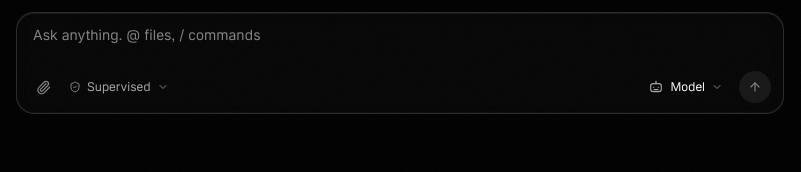
Test case: composer attachments › opens the native picker from the paperclip label and attaches the picked file
Click the file field named "Attach files" at (43, 87), box [36,80,50,94]
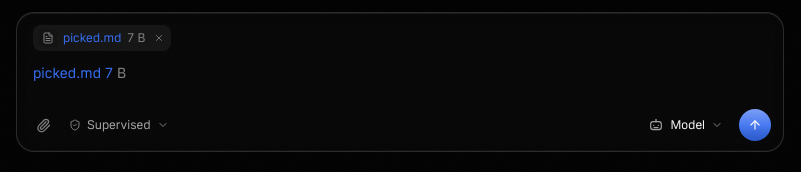
Now the element showing "picked.md 7 B" is shown, box [33,25,171,51]
